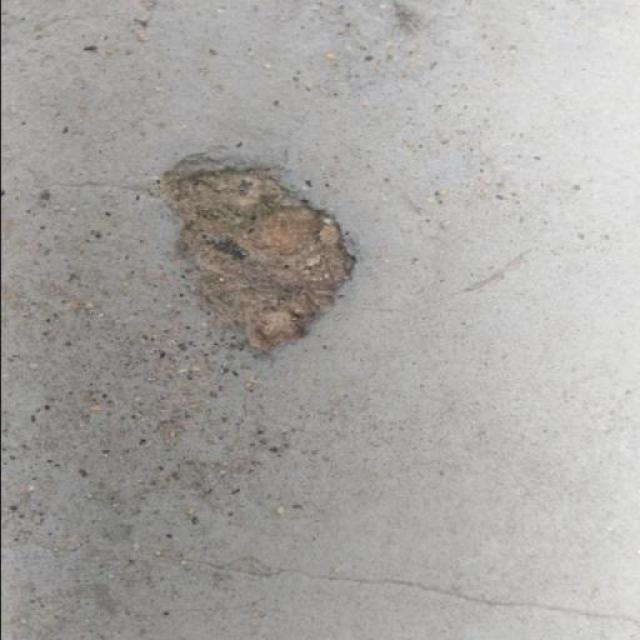D10: (160, 154, 355, 351)
